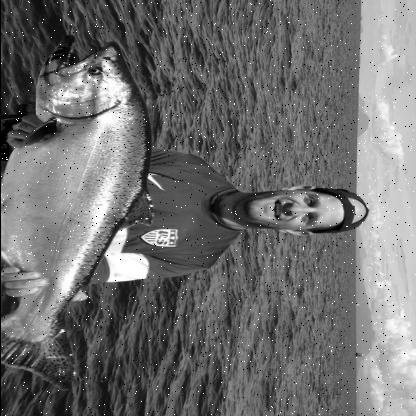fish: (0, 34, 154, 392)
